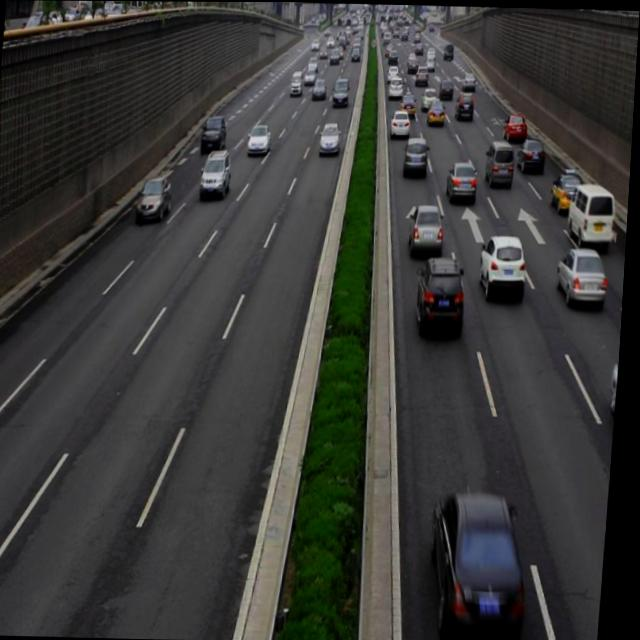car: (432, 488, 536, 628), (416, 253, 470, 336), (480, 232, 531, 299), (555, 245, 610, 305), (409, 201, 447, 255), (137, 174, 175, 223), (201, 147, 235, 197), (551, 168, 586, 214), (446, 158, 480, 204), (403, 133, 430, 177), (518, 134, 546, 173), (201, 112, 228, 150), (503, 109, 529, 143), (246, 121, 272, 155), (318, 119, 341, 155), (390, 107, 412, 139), (427, 97, 447, 125), (456, 91, 475, 119), (399, 90, 417, 116)
truck: (567, 180, 618, 244), (485, 138, 516, 188)
